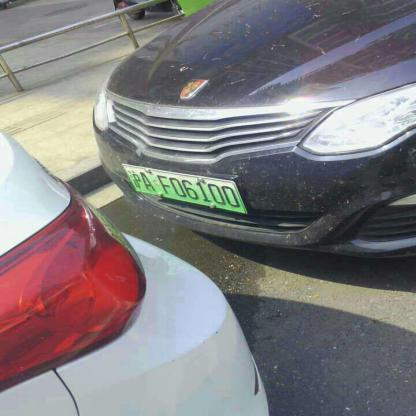lp: (123, 165, 246, 213)
